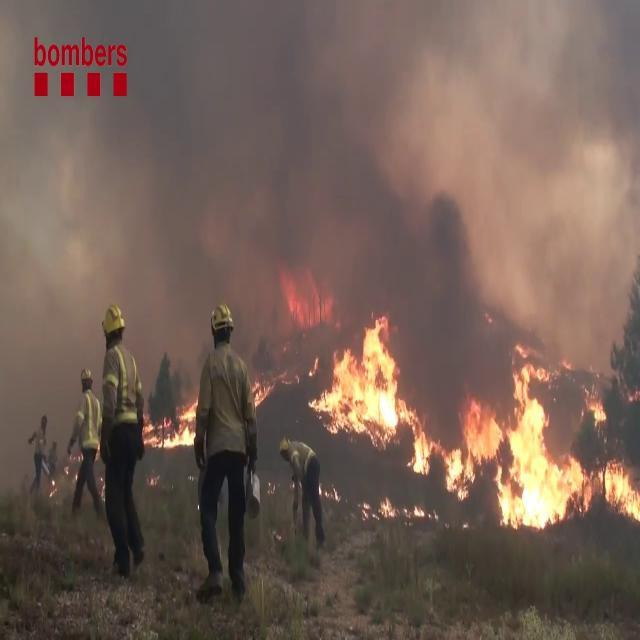Fire: (411, 350, 640, 538), (312, 314, 409, 439), (143, 394, 200, 454)
Smoke: (2, 1, 640, 355)
